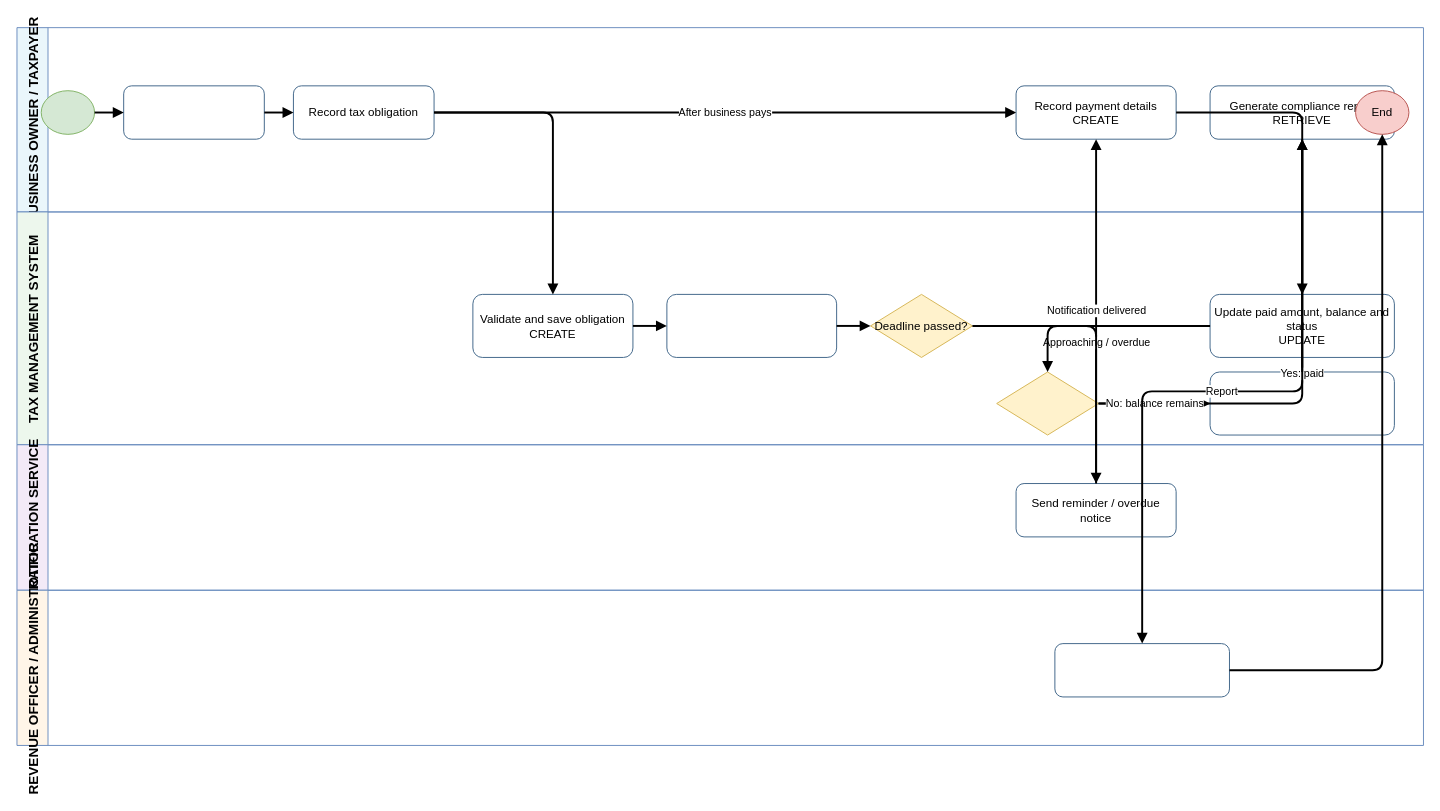
The diagram is 1440 pixels wide and 811 high, and some of its shapes have lost their labels. Each missing label, with the centre of its shape:
Check due dates and statuses RETRIEVE: the point at 751,325
Estimate penalty on overdue balance: the point at 1301,403
Maintain business profile: the point at 193,112
Paid in full?: the point at 1047,403
Review compliance information: the point at 1141,670
Start: the point at 67,112
